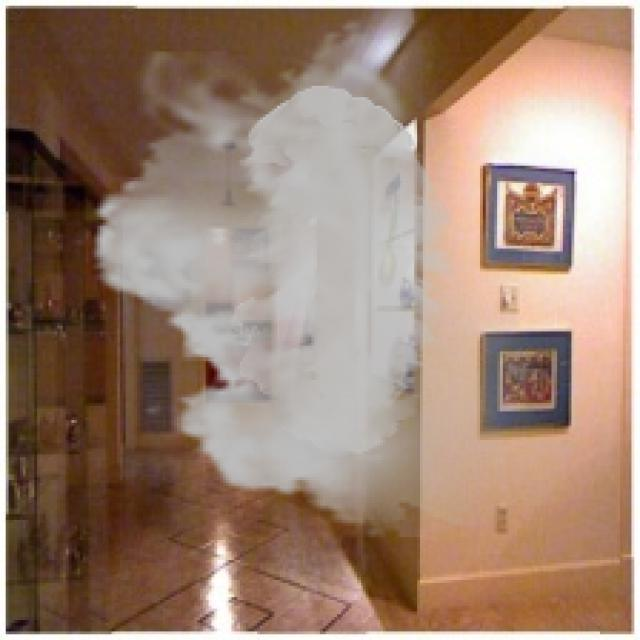smoke: (71, 17, 603, 537)
